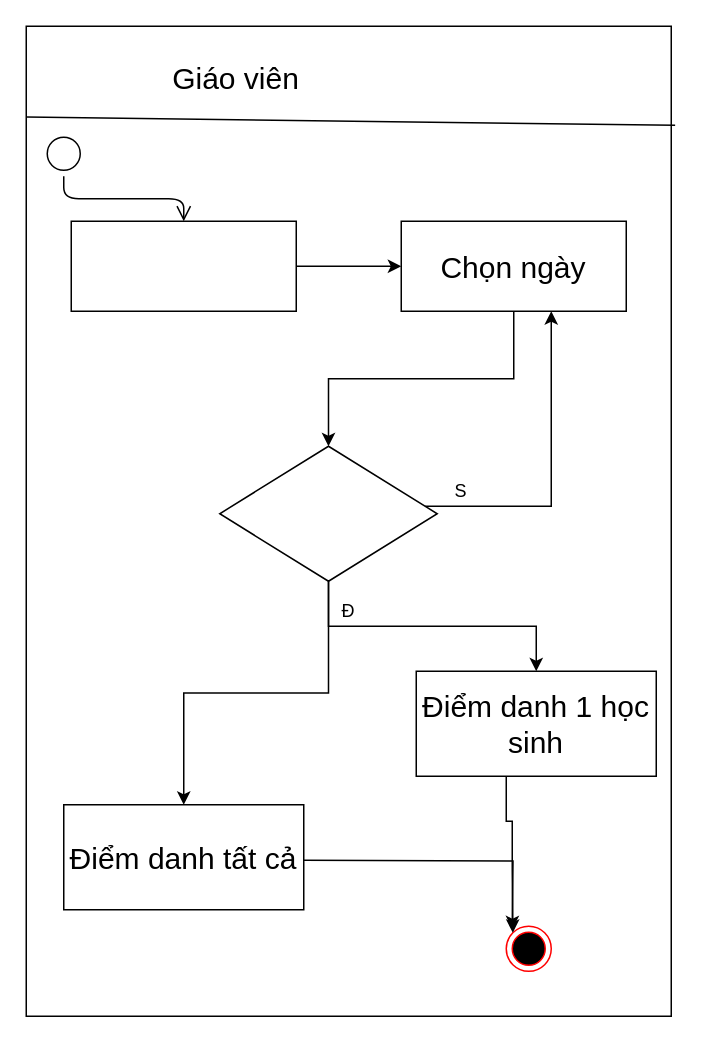
Some shapes in this 704 by 1043 pixel diagram are drawn without their labels. The centre of each missing label's shape, as x and y in pixels:
"Ngày hợp lệ" belongs at (327,513).
"Yêu cầu điểm danh" belongs at (183,265).
